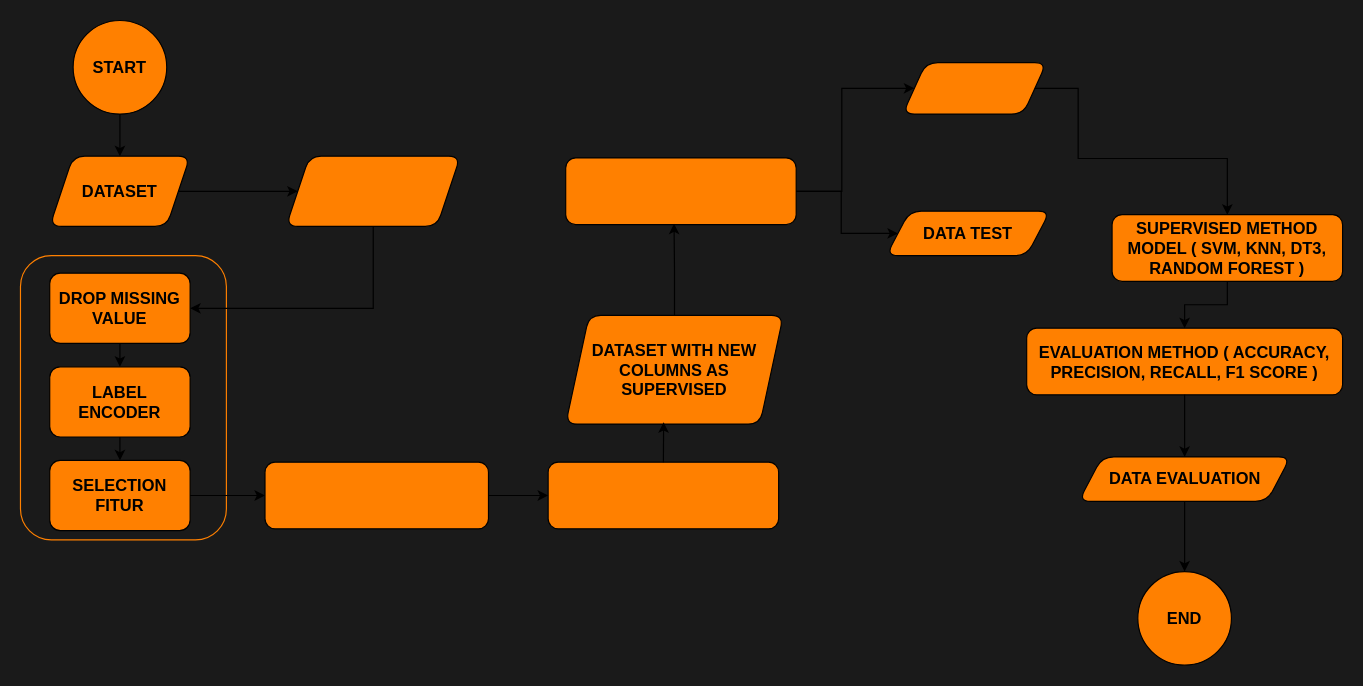
Image size: 1363x686. Some labels were removed from this diagram. The centre of each missing label's shape, as x and y in pixels:
CLEANED DATA: point 372,190
DATA TRAIN: point 974,87
MERGE CLUSTERING COLUMS TO DATASET: point 663,495
SPLIT DATASET: point 680,191
UNSEPERVISED LEARNING ( K-MEANS ): point 376,495
